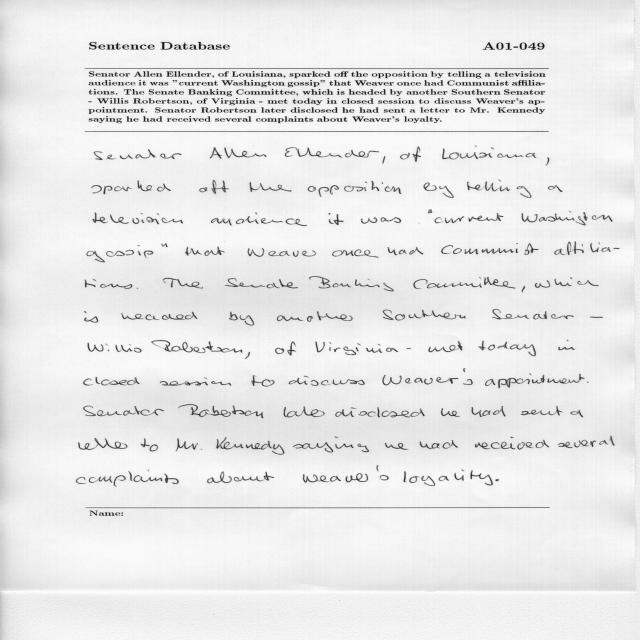word: (76, 470, 179, 487), (285, 147, 385, 164), (303, 465, 389, 483), (382, 369, 473, 386), (403, 469, 493, 486), (308, 181, 401, 197), (485, 373, 584, 388), (211, 213, 307, 227), (309, 277, 394, 292), (522, 211, 613, 225), (414, 277, 516, 289), (217, 437, 285, 455), (443, 146, 537, 159), (293, 437, 369, 453), (151, 340, 243, 353), (179, 404, 264, 418), (441, 243, 538, 255), (467, 180, 531, 198), (87, 245, 153, 262), (92, 181, 171, 195), (316, 342, 399, 355), (93, 213, 183, 224), (94, 149, 182, 160), (475, 437, 549, 450), (383, 310, 466, 321), (492, 309, 574, 320), (335, 407, 425, 417), (478, 341, 536, 356), (554, 242, 620, 255), (277, 311, 353, 322), (207, 472, 274, 484), (84, 406, 164, 416), (289, 376, 365, 386), (225, 278, 298, 288), (535, 277, 599, 288), (435, 213, 504, 223), (210, 147, 267, 159), (558, 436, 615, 448), (160, 377, 231, 386), (248, 248, 316, 257), (122, 312, 198, 320), (78, 438, 128, 450), (88, 342, 142, 353), (84, 377, 140, 386), (86, 279, 133, 289), (423, 183, 454, 198), (283, 407, 325, 418), (163, 278, 203, 289), (332, 249, 379, 258), (199, 180, 229, 194), (250, 182, 292, 192), (521, 406, 563, 416), (185, 246, 225, 256), (428, 341, 463, 352), (471, 406, 506, 417), (229, 312, 254, 326), (420, 440, 458, 449), (176, 439, 202, 452), (275, 341, 296, 356), (388, 247, 424, 255), (251, 375, 275, 387), (361, 217, 401, 224), (141, 439, 158, 452), (329, 213, 344, 225), (441, 408, 460, 417), (558, 340, 575, 350), (385, 443, 409, 450), (85, 311, 98, 323), (413, 146, 421, 162), (548, 185, 562, 192), (570, 410, 583, 417), (400, 153, 410, 159), (546, 157, 550, 166), (245, 352, 250, 359), (161, 243, 168, 247), (590, 316, 603, 318), (522, 286, 525, 292), (428, 210, 432, 214), (495, 479, 499, 481), (406, 348, 411, 349), (587, 381, 589, 383), (137, 288, 139, 289)
